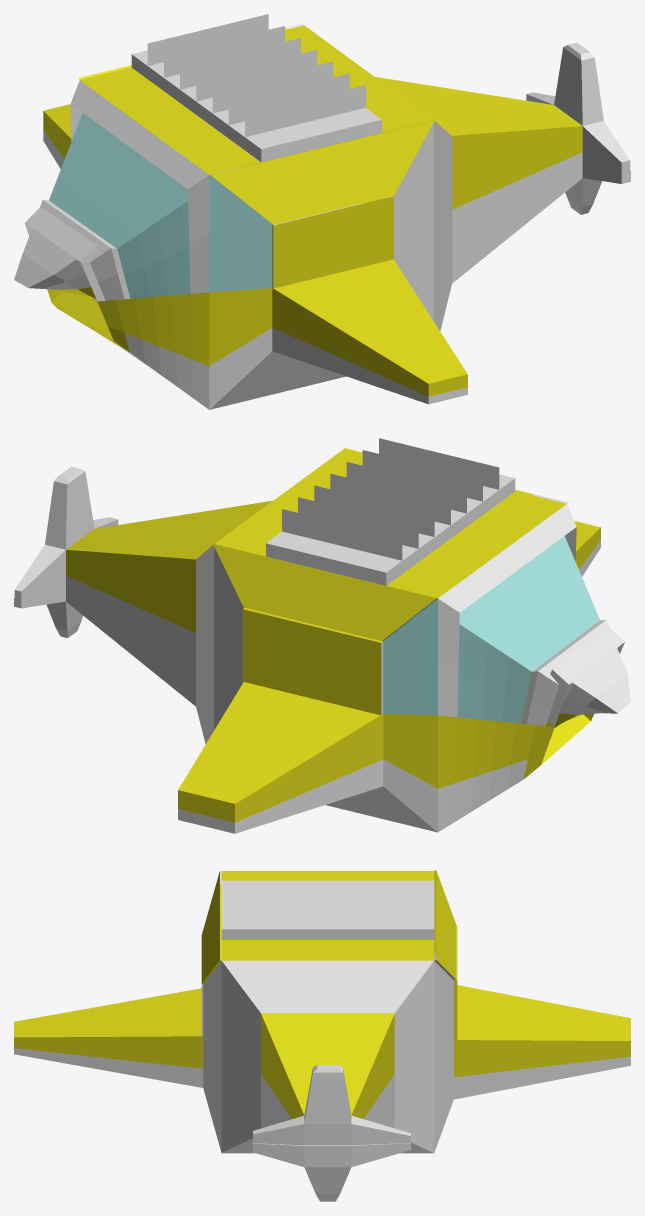
File: Nautilus.fbx
The picture shows the model from 3 angles, top to bottom: view 1: azimuth 30°, elevation 25°; view 2: azimuth 150°, elevation 25°; view 3: azimuth 270°, elevation 25°; orthographic projection. The views are drawn at different scales.
Visible parts, largest first — view 1: Cube; view 2: Cube; view 3: Cube.
Part boxes in pixels (<box>): Cube: <box>14,14,630,409</box>; Cube: <box>14,438,630,833</box>; Cube: <box>14,870,630,1201</box>.
Bounding box in the file's own units: 508 × 230 × 581.
